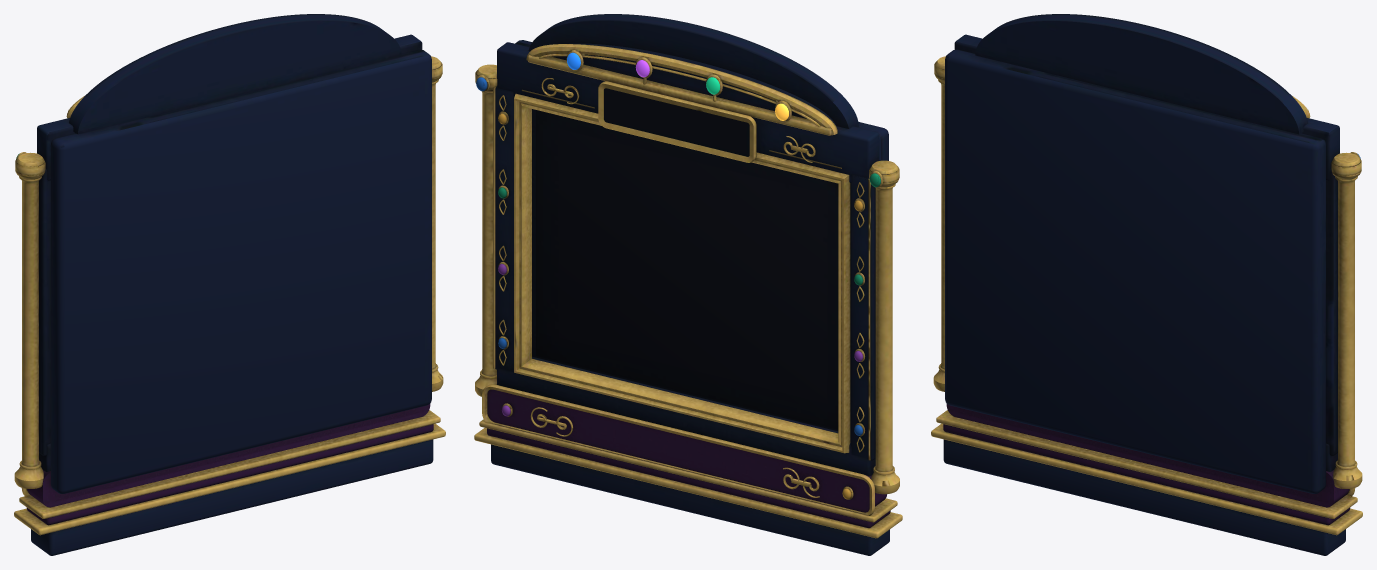
The picture shows the model from 3 angles, left to right: view 1: azimuth 30°, elevation 25°; view 2: azimuth 150°, elevation 25°; view 3: azimuth 330°, elevation 25°; orthographic projection.
Parts seen in each view (by area): view 1: Navy_velvet, Polished_treasury_gold, Purple_velvet; view 2: Even_dark_inset, Polished_treasury_gold, Navy_velvet, Purple_velvet; view 3: Navy_velvet, Polished_treasury_gold, Purple_velvet.
Boxes of the visible parts, bbox=[...] form: Navy_velvet: bbox=[31, 14, 433, 555]; Polished_treasury_gold: bbox=[14, 56, 445, 535]; Purple_velvet: bbox=[26, 404, 433, 525]; Even_dark_inset: bbox=[536, 88, 838, 429]; Polished_treasury_gold: bbox=[474, 44, 902, 538]; Navy_velvet: bbox=[491, 14, 889, 555]; Purple_velvet: bbox=[487, 389, 890, 527]; Navy_velvet: bbox=[943, 14, 1345, 555]; Polished_treasury_gold: bbox=[931, 56, 1362, 535]; Purple_velvet: bbox=[943, 404, 1350, 525].
Bounding box in the file's own units: 9.22 × 9.9 × 1.14.
Materials: 12 (8 with a texture image).
